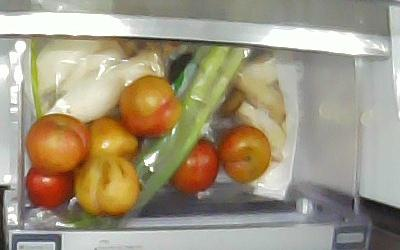prune: (116, 74, 182, 138), (73, 153, 139, 216), (25, 112, 90, 173), (216, 123, 271, 183), (168, 136, 220, 193), (83, 118, 140, 164), (24, 163, 73, 208)
